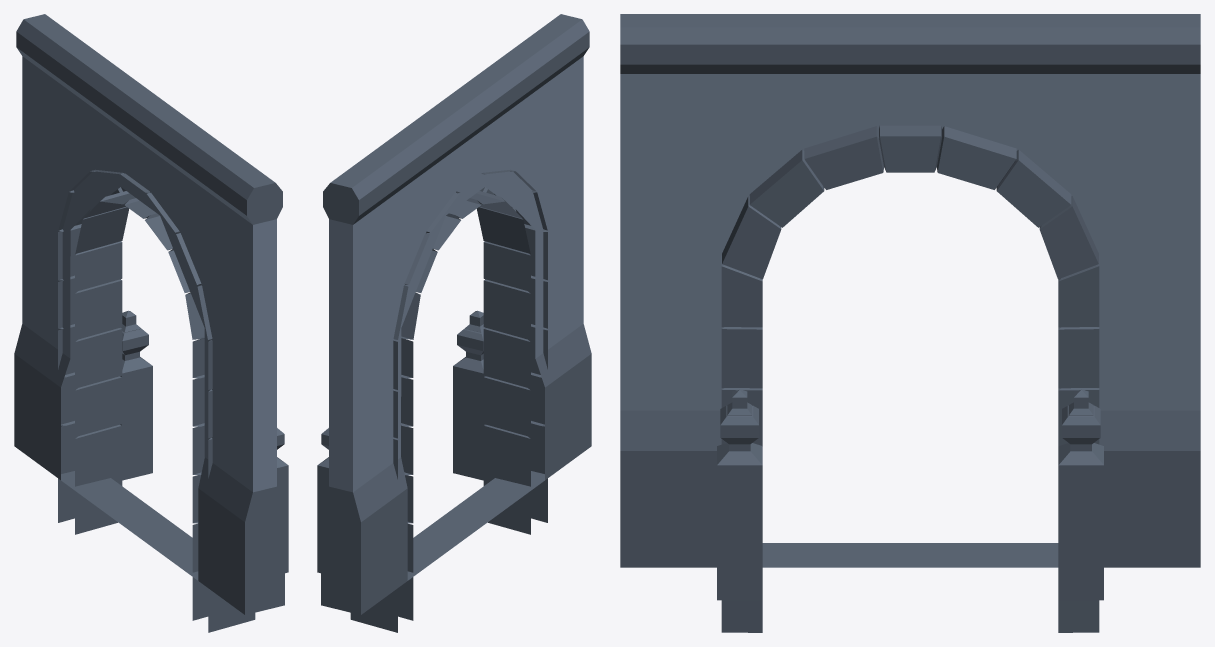
The model's file is WallDoor01.fbx.
The picture shows the model from 3 angles, left to right: view 1: azimuth 30°, elevation 25°; view 2: azimuth 150°, elevation 25°; view 3: azimuth 270°, elevation 25°; orthographic projection. The views are drawn at different scales.
Parts seen in each view (by area): view 1: Cube.003; view 2: Cube.003; view 3: Cube.003.
Boxes of the visible parts, bbox=[...] form: Cube.003: bbox=[14, 14, 288, 632]; Cube.003: bbox=[317, 14, 591, 632]; Cube.003: bbox=[620, 14, 1200, 632].
Bounding box in the file's own units: 164 × 905 × 800.
1 material, 1 textured.
